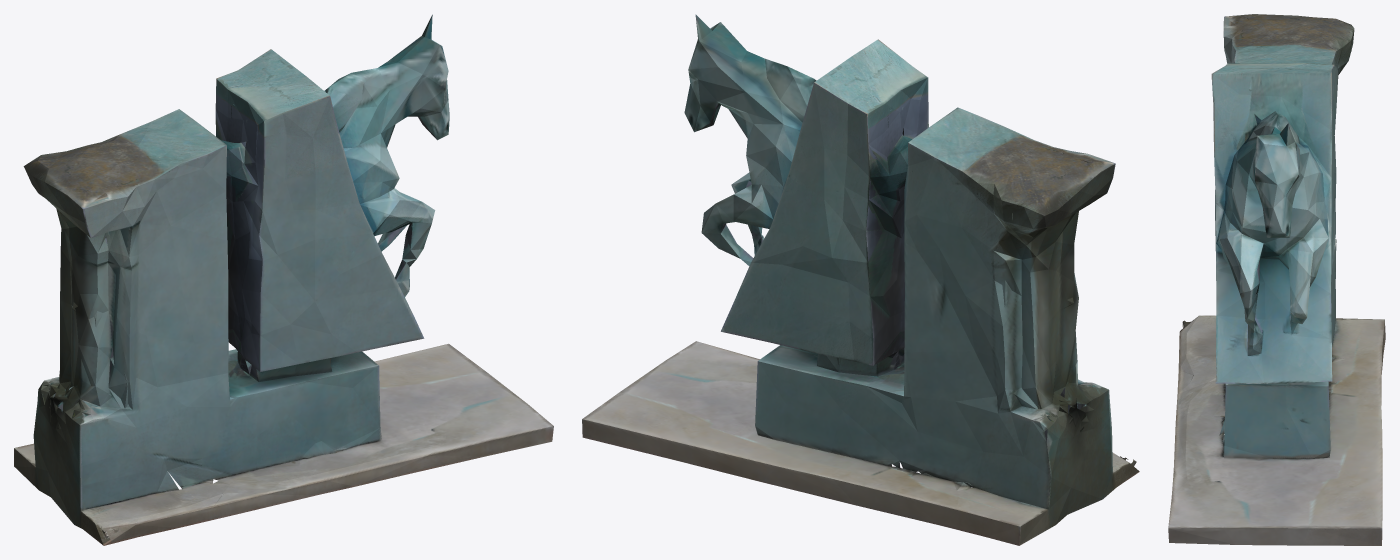
File: HORSE.fbx
3 renders of one model, left to right at view 1: azimuth 30°, elevation 25°; view 2: azimuth 150°, elevation 25°; view 3: azimuth 270°, elevation 25°, orthographic. The views are drawn at different scales.
Parts seen in each view (by area): view 1: temp; view 2: temp; view 3: temp.
Boxes of the visible parts, x1,y1,x2,y2 form: temp: [14, 14, 553, 545]; temp: [582, 14, 1139, 545]; temp: [1168, 14, 1385, 545].
Size of the model in its own units: 199 by 171 by 84.98.
Materials: 1 (1 with a texture image).
